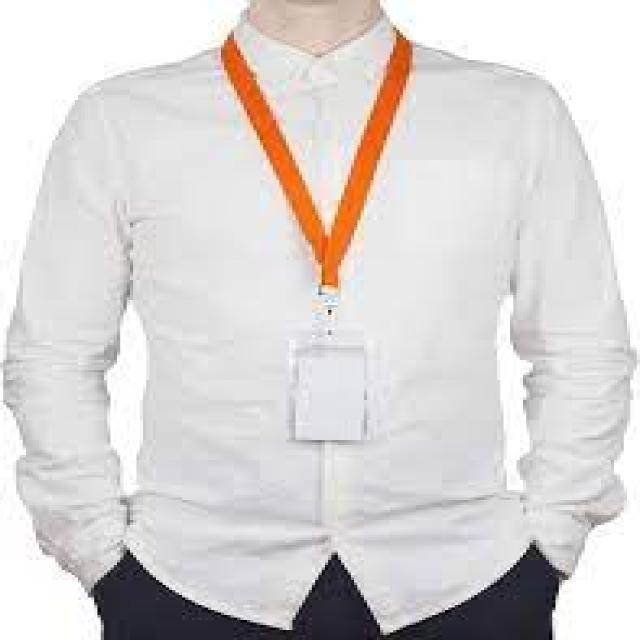id_card: (213, 44, 408, 449)
